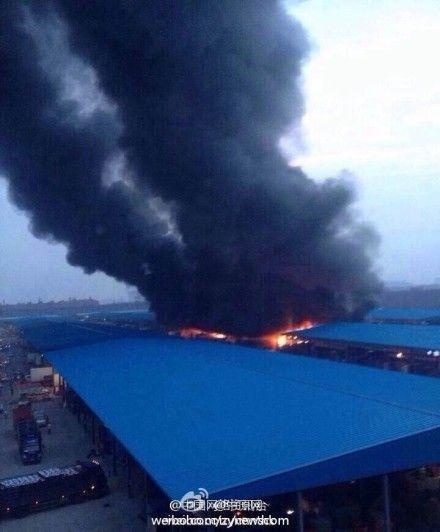fire: (266, 317, 313, 347)
